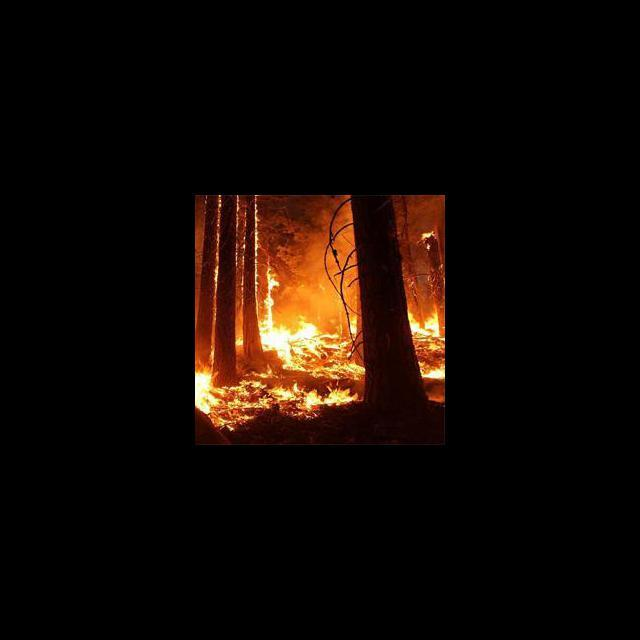Fire: (195, 223, 444, 427)
